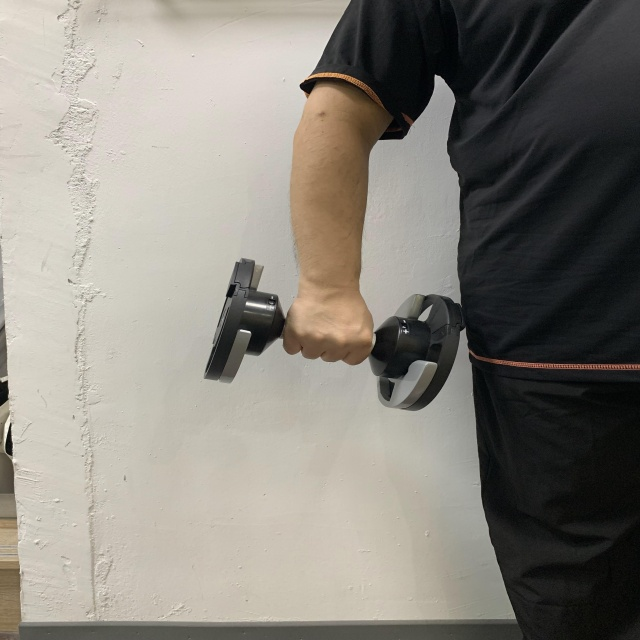02-4kg: (206, 256, 464, 411)
